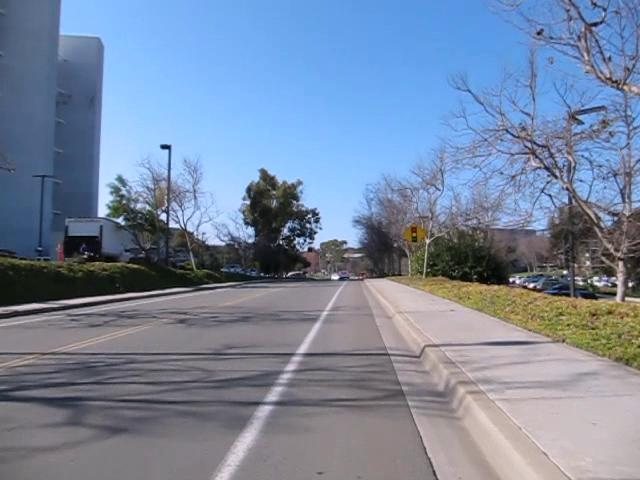signalAhead: (400, 221, 426, 247)
